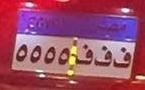5: (43, 45, 57, 67), (29, 43, 43, 65), (15, 43, 29, 64), (57, 47, 70, 67)
faa: (94, 43, 113, 69), (113, 45, 132, 69), (75, 43, 93, 66)
